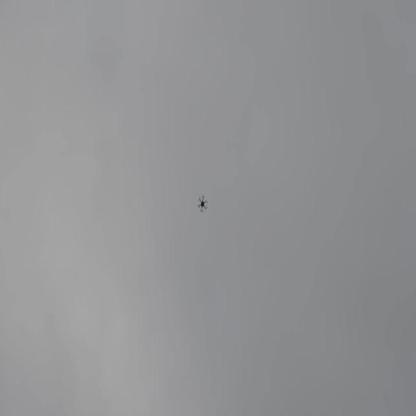drone: (193, 188, 210, 216)
